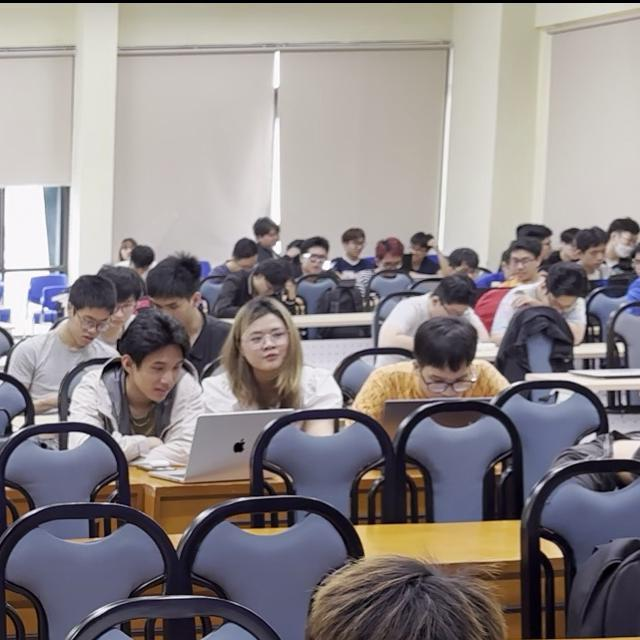Looking away: (133, 344, 180, 402), (421, 365, 472, 402), (72, 308, 109, 348)
Looking forward: (243, 318, 290, 372), (510, 246, 536, 284)
